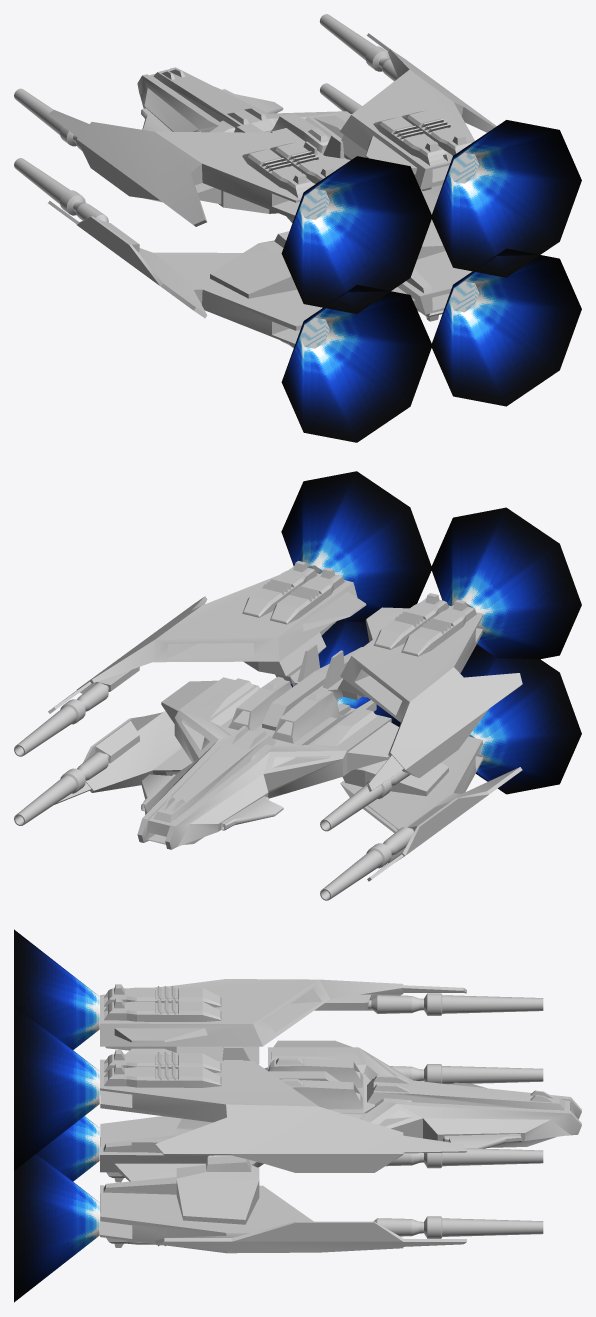
File: EnemyFighter.fbx
3 renders of one model, top to bottom at view 1: azimuth 30°, elevation 25°; view 2: azimuth 150°, elevation 25°; view 3: azimuth 270°, elevation 25°, orthographic. The views are drawn at different scales.
Visible parts, largest first — view 1: EnemyThrust, EnemyFighter, EnemyGlow; view 2: EnemyFighter, EnemyThrust, EnemyGlow; view 3: EnemyFighter, EnemyThrust, EnemyGlow.
Boxes of the visible parts, x1,y1,x2,y2 form: EnemyThrust: (281, 120, 581, 442); EnemyFighter: (14, 14, 496, 348); EnemyGlow: (157, 68, 289, 334); EnemyFighter: (14, 561, 522, 900); EnemyThrust: (281, 471, 581, 794); EnemyGlow: (157, 730, 258, 814); EnemyFighter: (100, 979, 581, 1253); EnemyThrust: (14, 929, 99, 1302); EnemyGlow: (373, 1080, 559, 1103).
Size of the model in its own units: 19.77 by 16.5 by 28.99.
